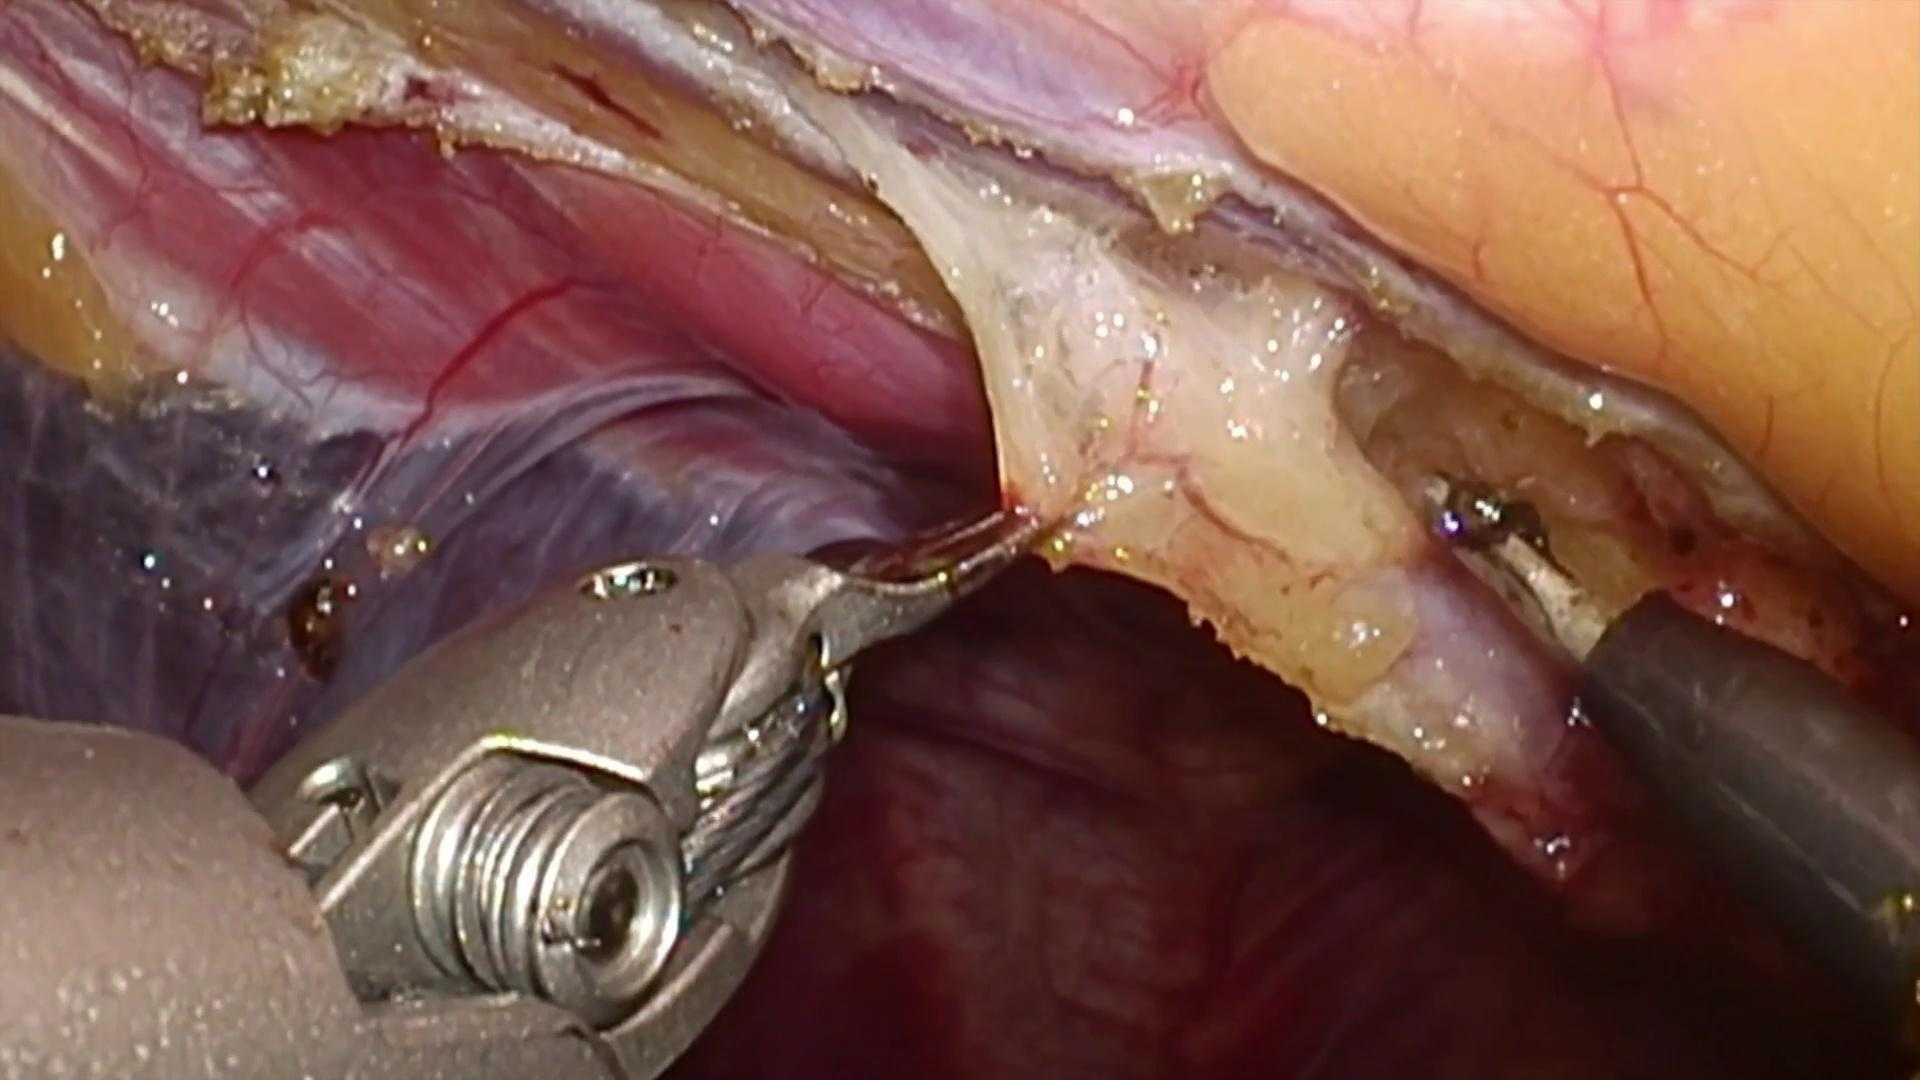Cautery_Spatula: (1412, 476, 1920, 1002)
Debakey: (738, 475, 1073, 723)
